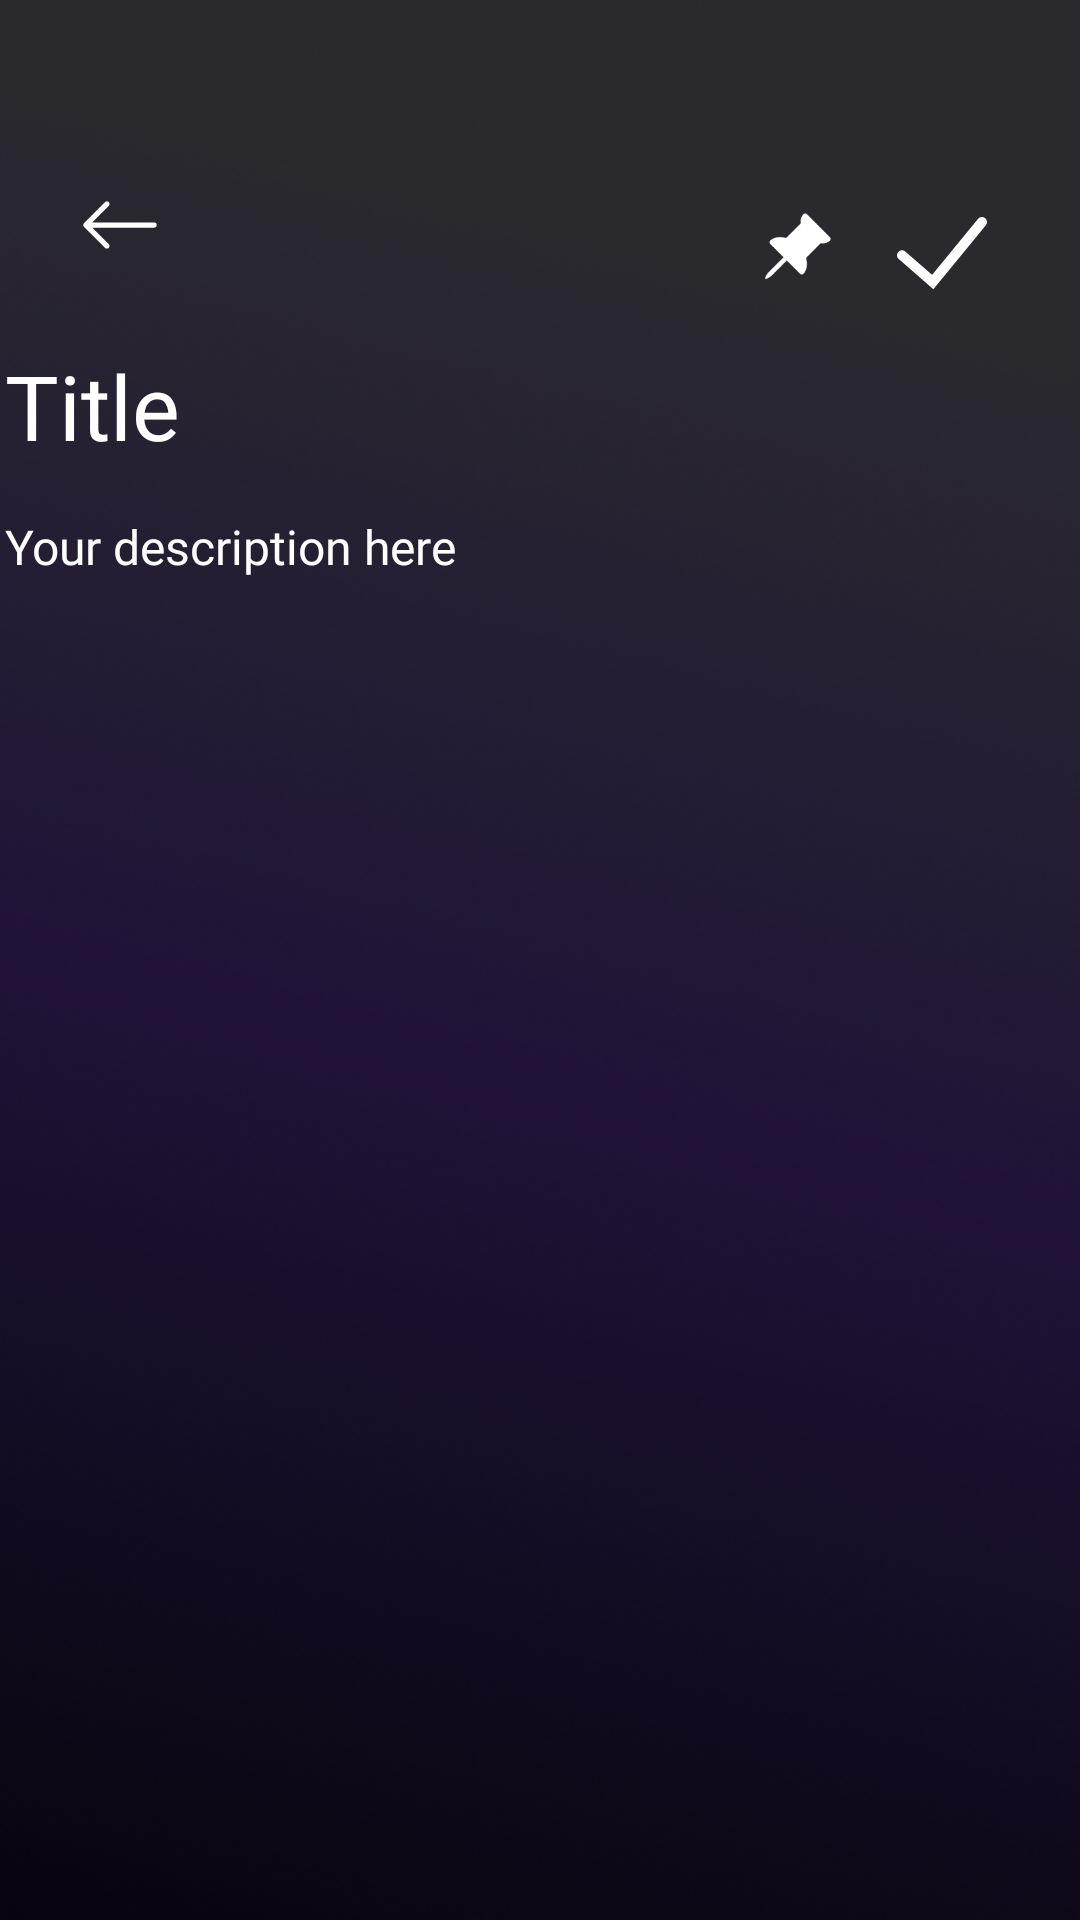

Point at icon controls on the screen. Image size 1080x1920, points as [x,y].
arrow left: [120,225]
pinned: [798,246]
